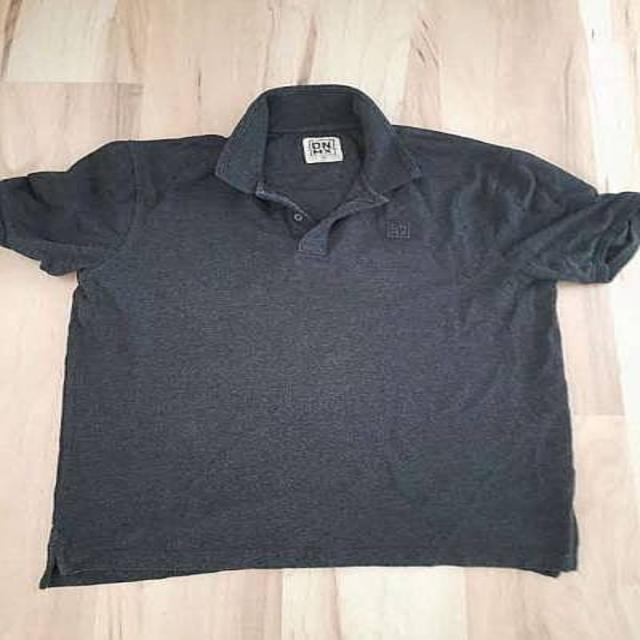T_SHIRT: (0, 74, 640, 596)
